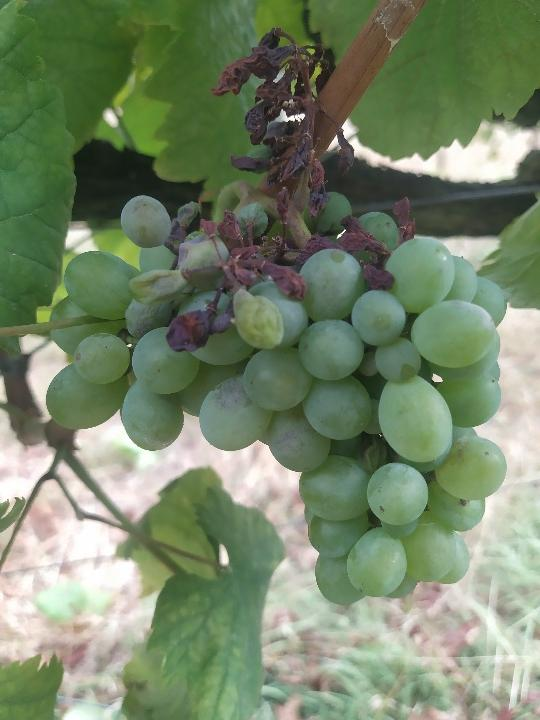grape: (41, 24, 512, 608)
